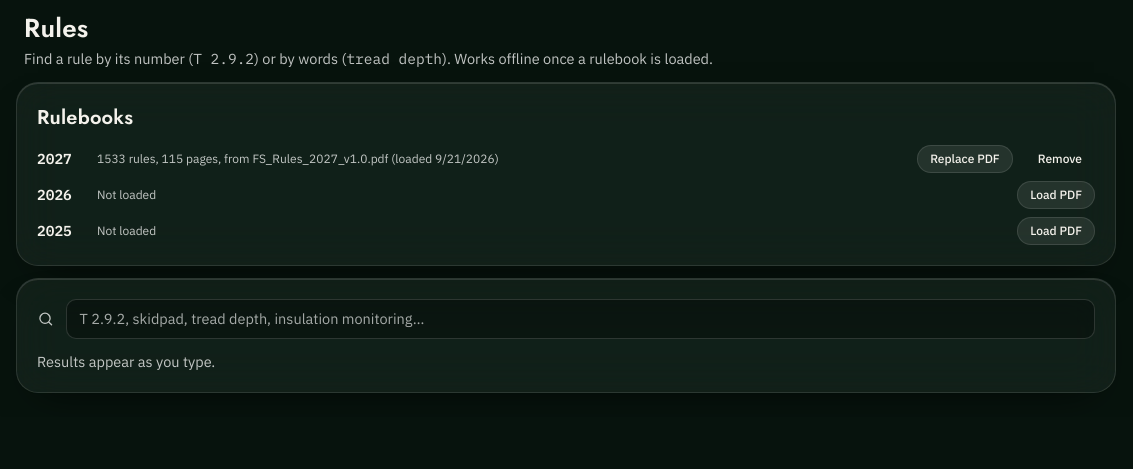
Test: Rules view › typing searches the loaded year and shows id, title, page and the matched words highlighted
Type "track width" into the search field named "Search the rules" at [581, 319], box left=66, top=299, right=1095, bottom=339
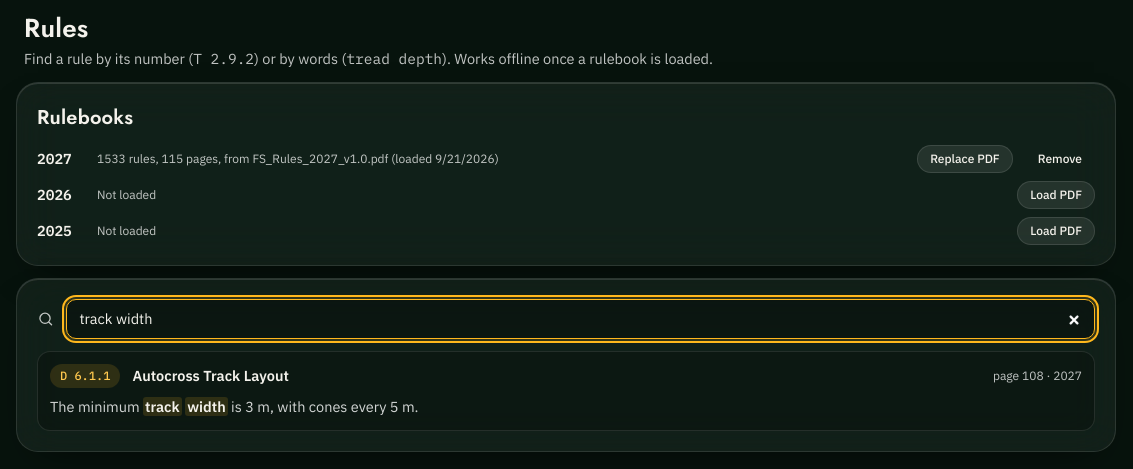
Expected: the list named "Rule results" shows "D 6.1.1", left=60, top=368, right=110, bottom=382
Expected: the list named "Rule results" shows "Autocross Track Layout", left=132, top=366, right=289, bottom=385
Expected: the list named "Rule results" shows "page 108", left=993, top=368, right=1082, bottom=382
